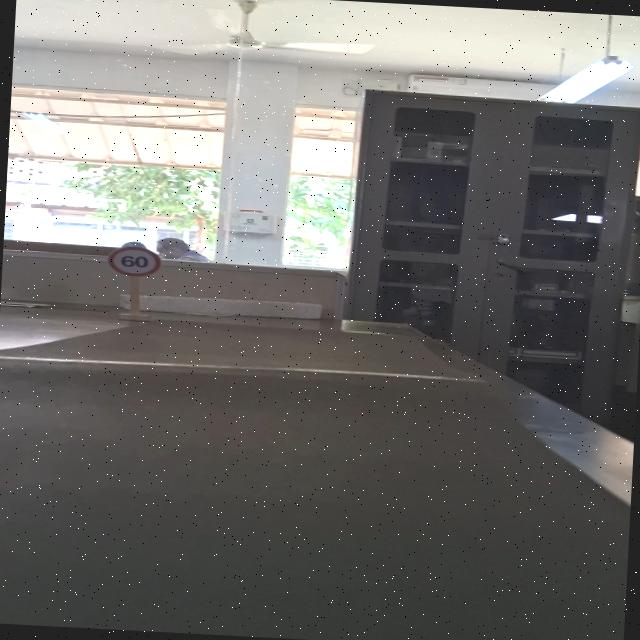Speed60: (106, 244, 162, 278)
